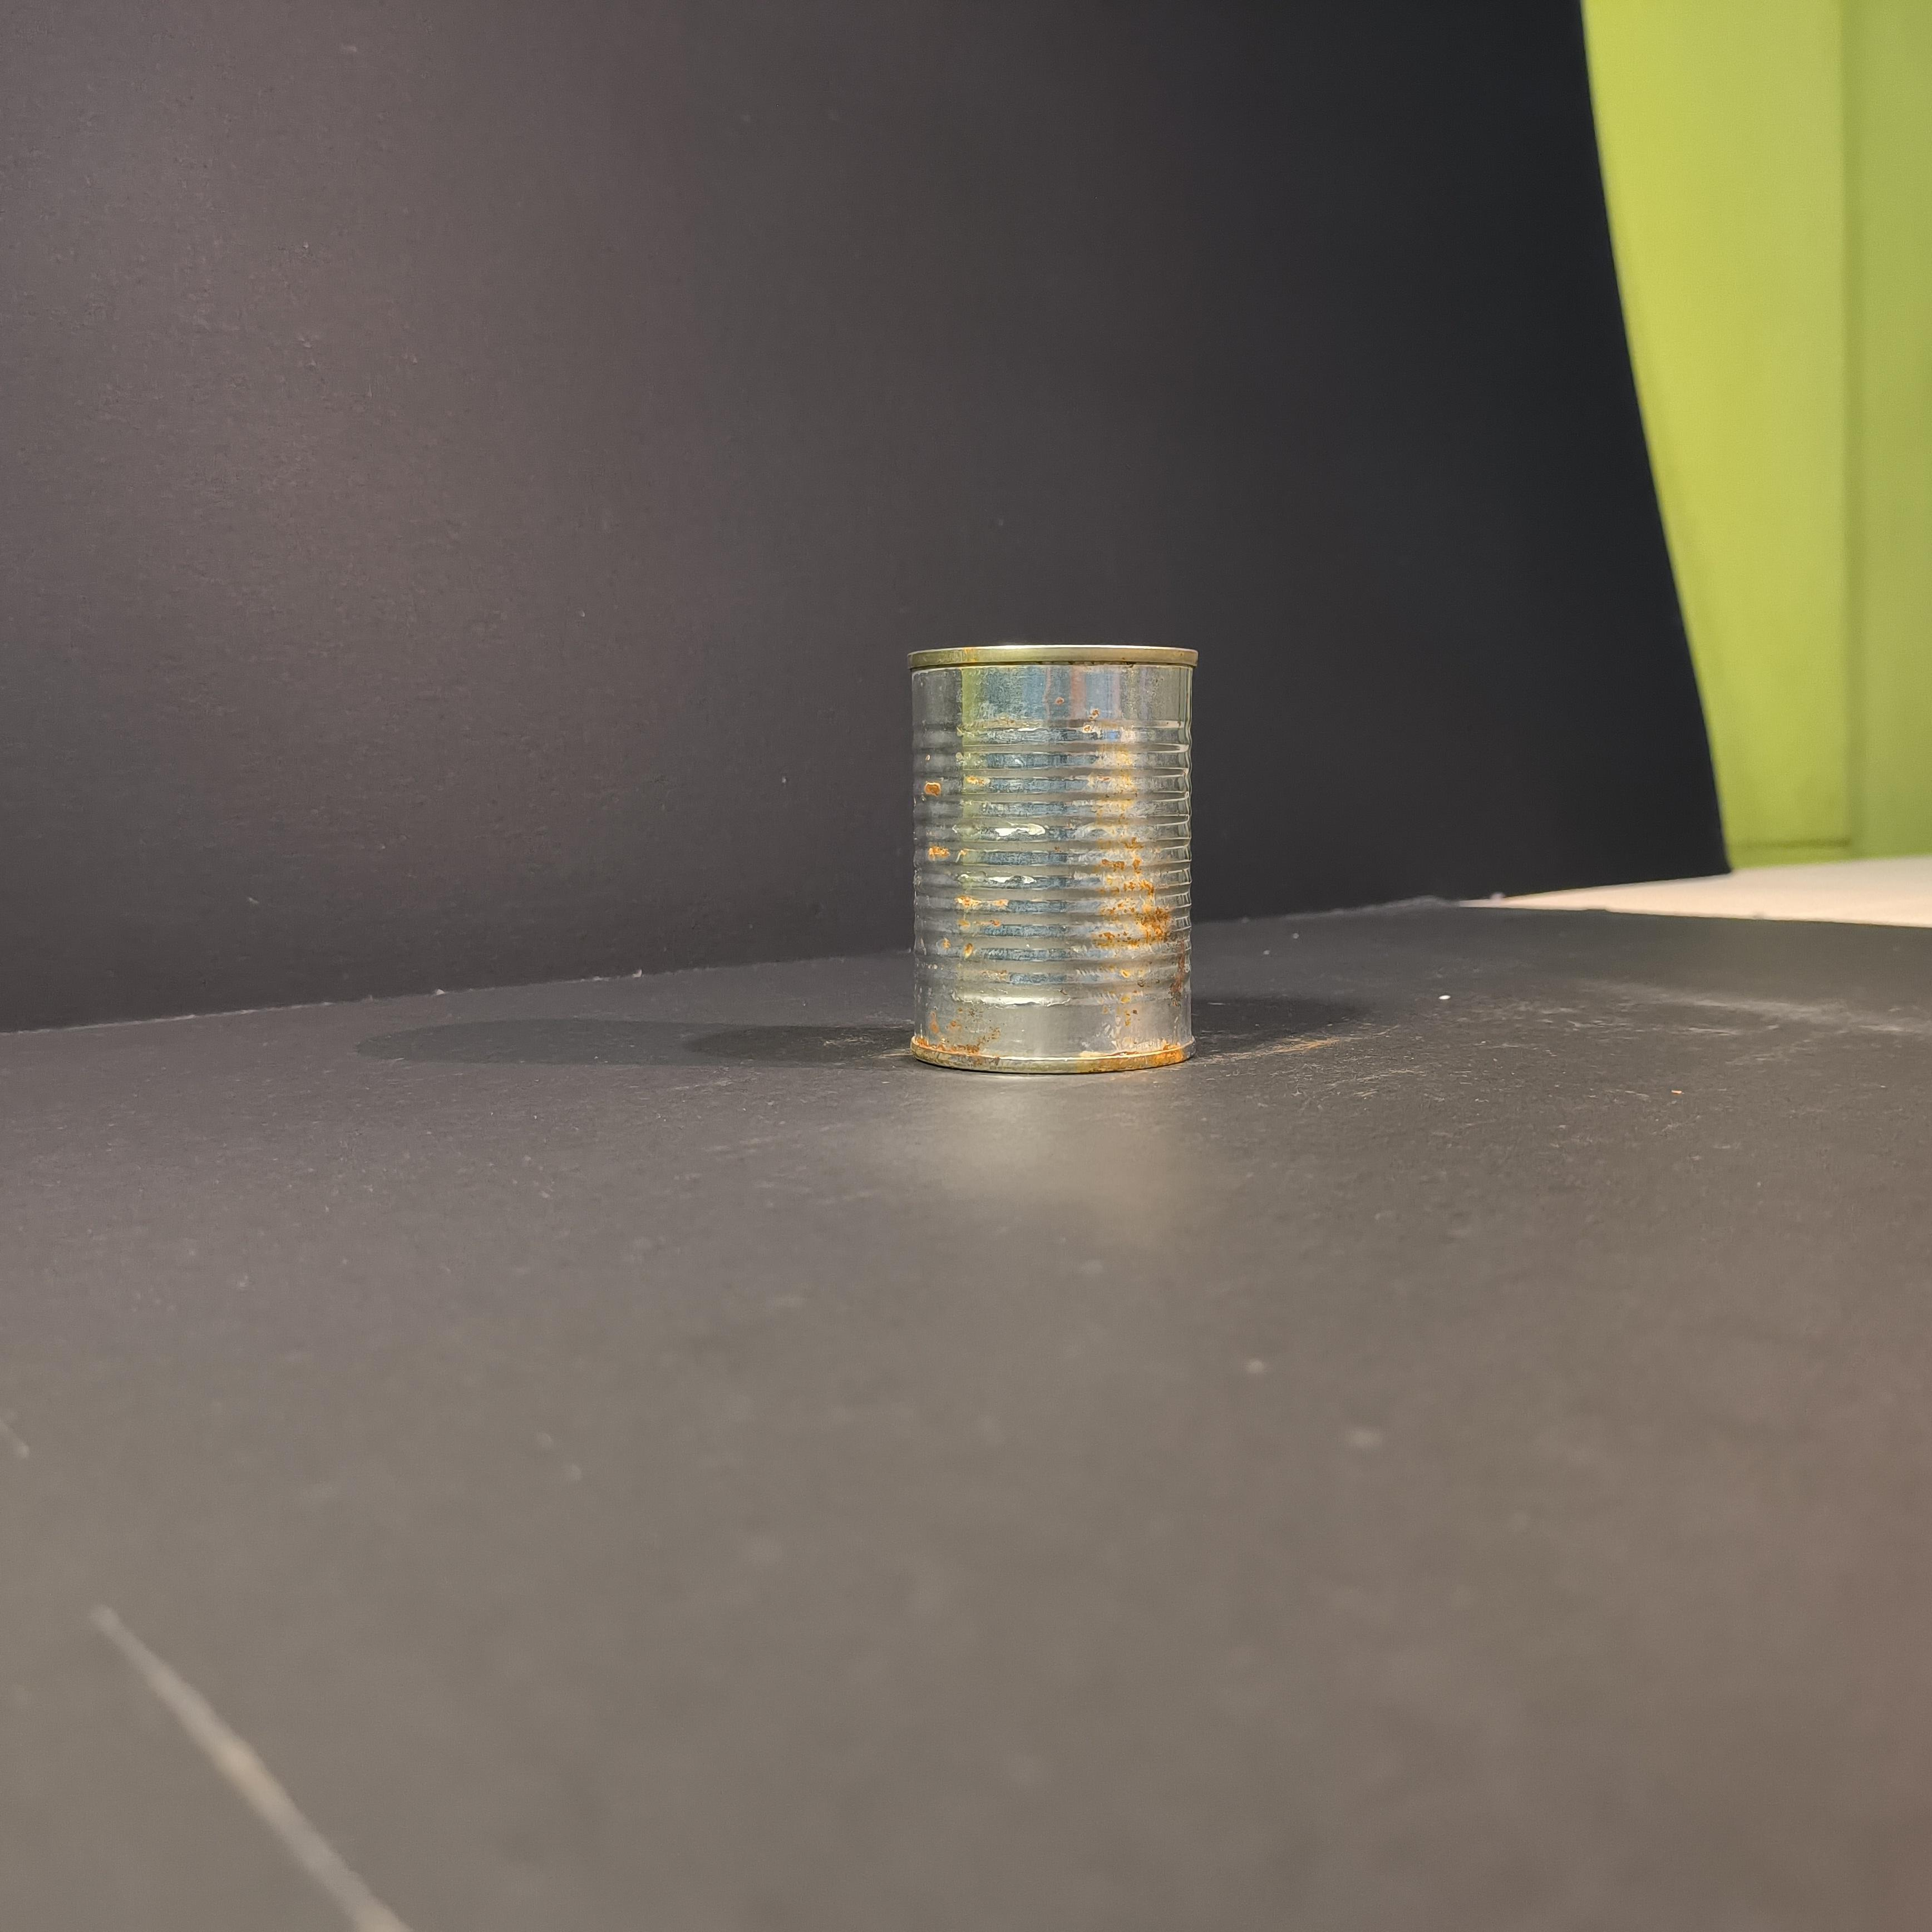Rusted: (890, 603, 1214, 1085)
